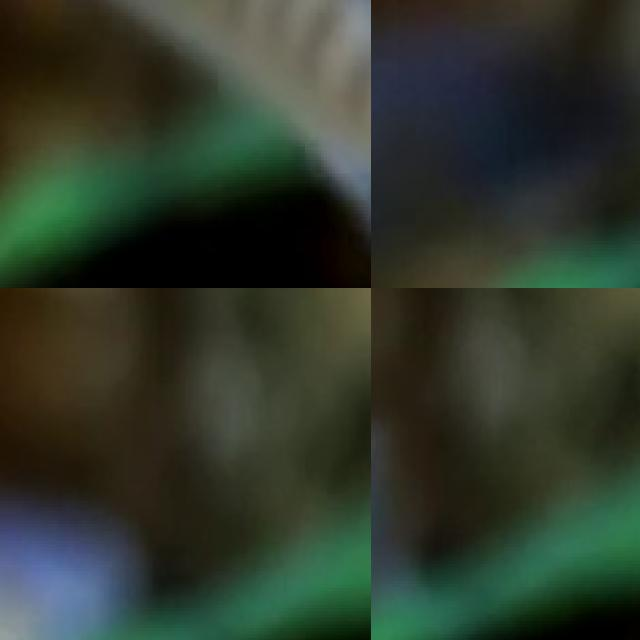fish: (0, 0, 371, 288), (371, 2, 640, 264), (0, 477, 136, 640)
